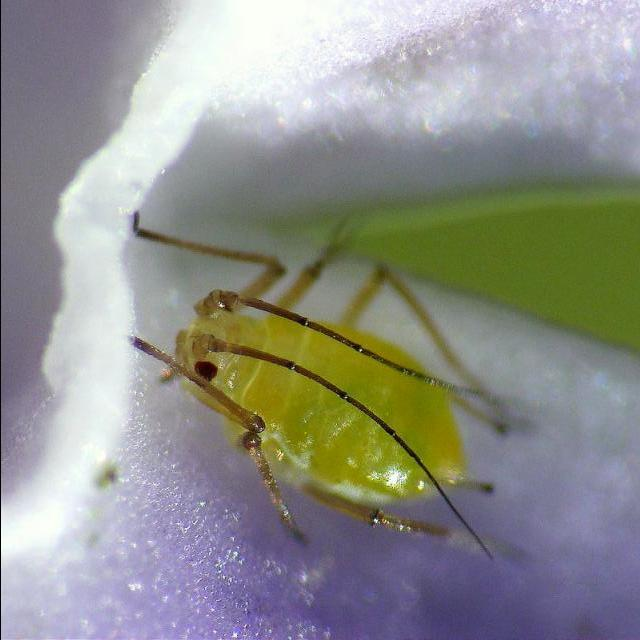aphid: (108, 225, 518, 558)
